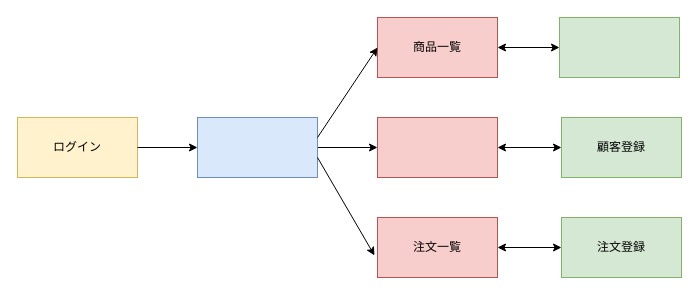
The diagram is 699 pixels wide and 295 high, and some of its shapes have lost their labels. The centre of each missing label's shape, as x and y in pixels:
"ダッシュボード" belongs at pixel 257 147.
"商品登録" belongs at pixel 619 47.
"顧客一覧" belongs at pixel 437 147.
